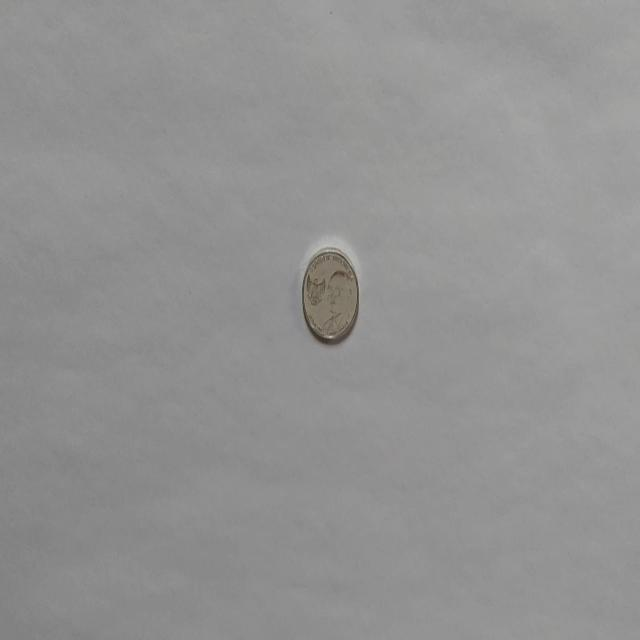lima ratus rupiah: (300, 246, 360, 344)
